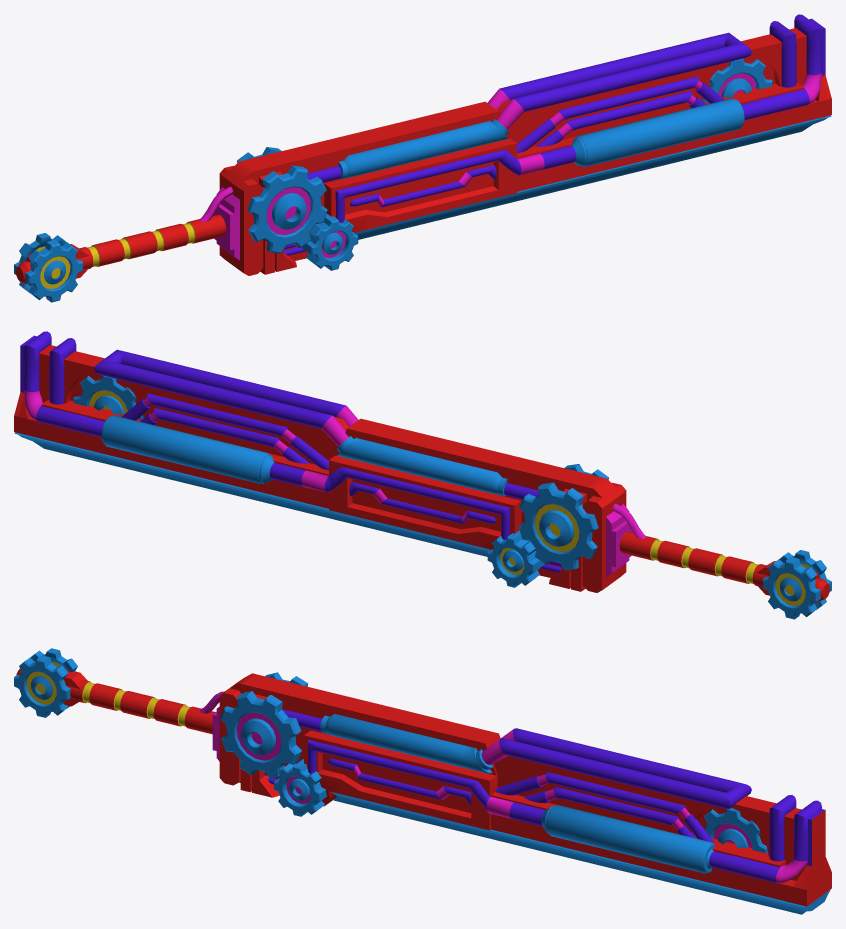
The model's file is WheelsIndustryGreatsword.fbx.
3 renders of one model, top to bottom at view 1: azimuth 30°, elevation 25°; view 2: azimuth 150°, elevation 25°; view 3: azimuth 330°, elevation 25°, orthographic.
Visible parts, largest first — view 1: Wheels Industry - Greatsword; view 2: Wheels Industry - Greatsword; view 3: Wheels Industry - Greatsword.
Part boxes in pixels (x1,y1,x2,y2): Wheels Industry - Greatsword: (14,14,831,302); Wheels Industry - Greatsword: (14,331,831,619); Wheels Industry - Greatsword: (14,648,831,914).
Bounding box in the file's own units: 242 × 33.39 × 22.12.
